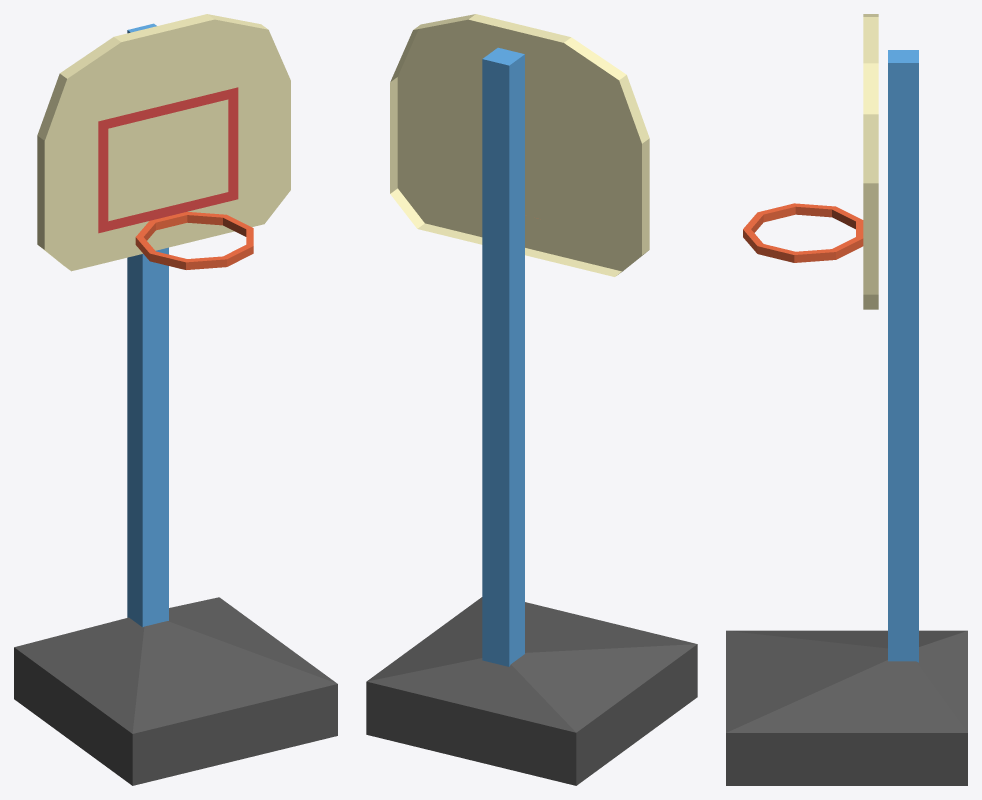
File: Basketball_Gole_Toy_M.fbx
3 renders of one model, left to right at view 1: azimuth 30°, elevation 25°; view 2: azimuth 150°, elevation 25°; view 3: azimuth 270°, elevation 25°, orthographic. The views are drawn at different scales.
Visible parts, largest first — view 1: Basketball_Gole_Toy_M; view 2: Basketball_Gole_Toy_M; view 3: Basketball_Gole_Toy_M.
Part boxes in pixels (x1,y1,x2,y2): Basketball_Gole_Toy_M: (14,14,337,785); Basketball_Gole_Toy_M: (366,14,697,785); Basketball_Gole_Toy_M: (726,14,967,785).
Bounding box in the file's own units: 55.71 × 147 × 46.42.
Materials: 1 (1 with a texture image).
